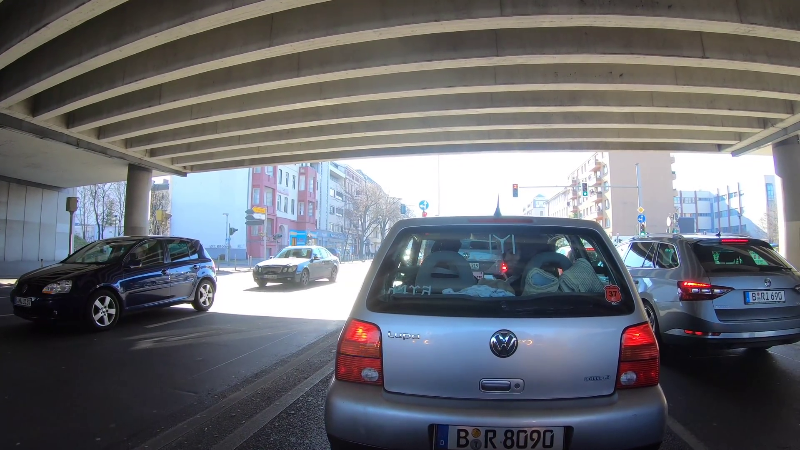Plate: (435, 424, 566, 448), (745, 289, 784, 302), (10, 296, 32, 307), (262, 272, 278, 280)
